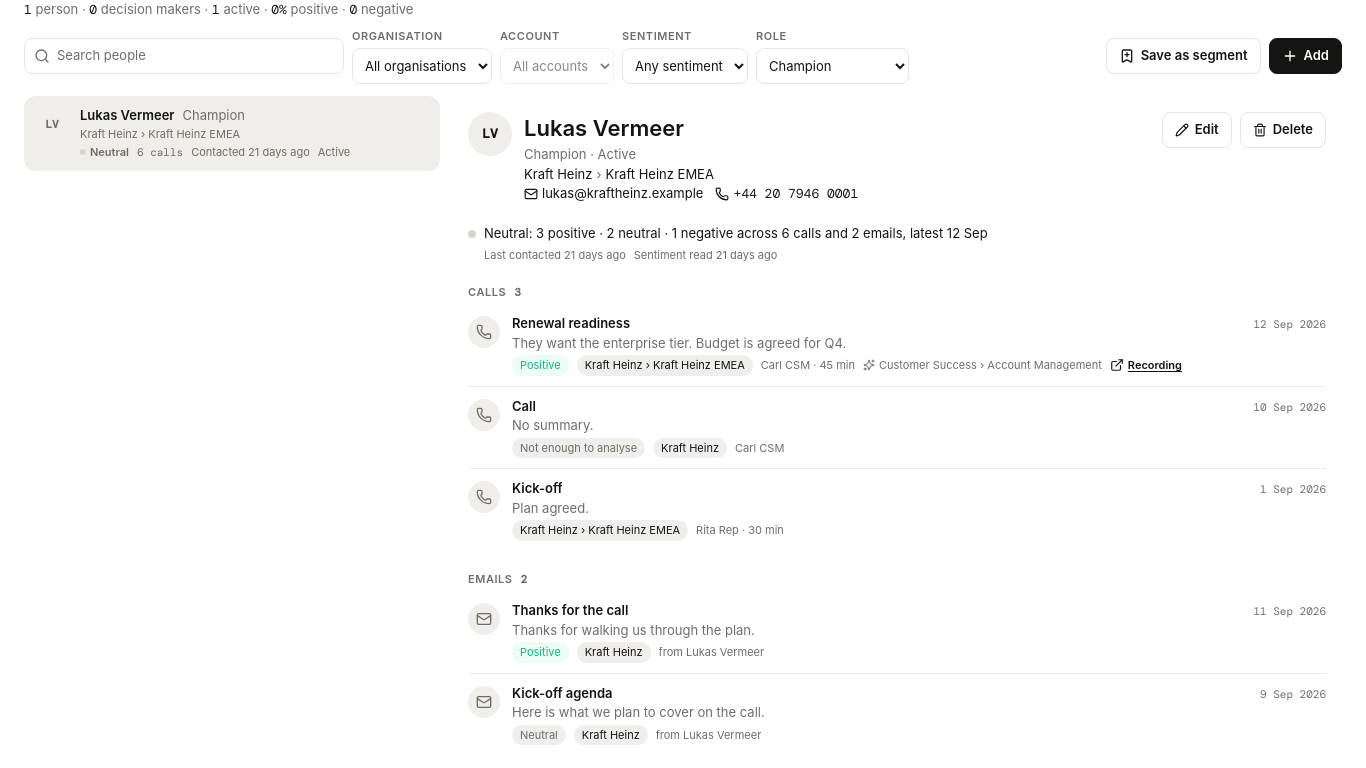
Test case: Contacts page (spec 2026-09-28 §3) › deleting the open person goes back to the list, read again without them
The image size is (1366, 768).
Expected: the heading "Lukas Vermeer" is shown, 524,115 -> 684,141
Click the button "Delete" at (1283, 130), box 1240,112 -> 1326,148
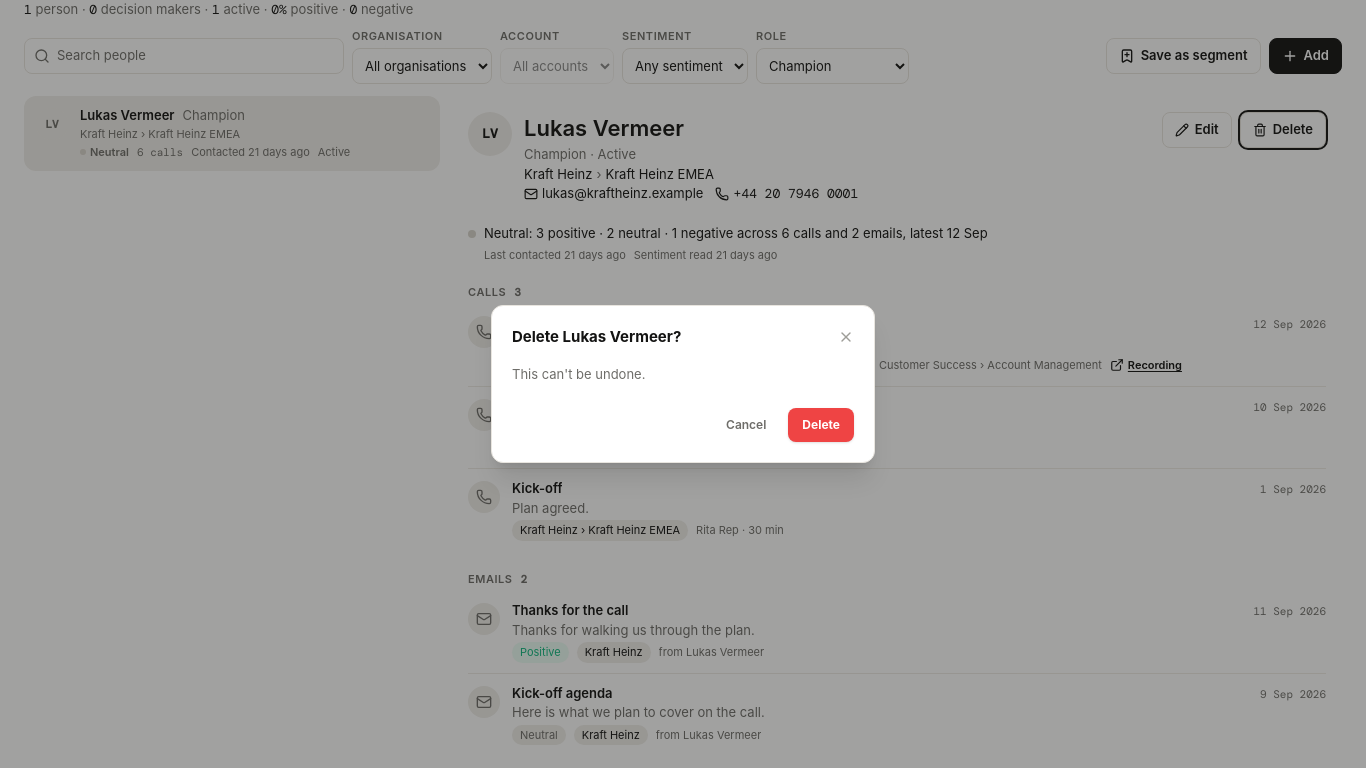
Click the button "Delete" at (821, 425), box 788,408 -> 854,442
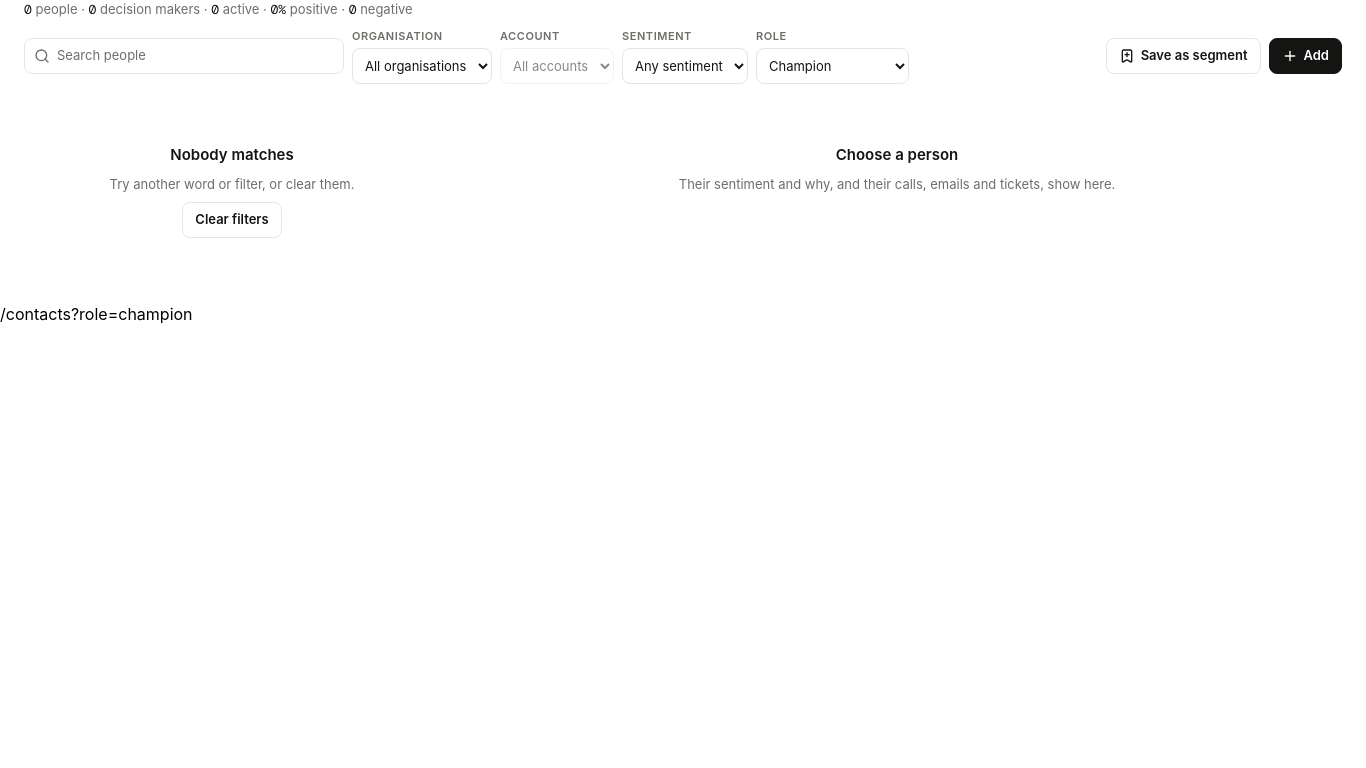
Result: the text with test id "where" reads "/contacts?role=champion" at 0,304 -> 193,324
Result: the text "Nobody matches" is shown at 170,144 -> 294,166
Result: the element that starts with "people" shows "0 people" at 24,1 -> 413,18
